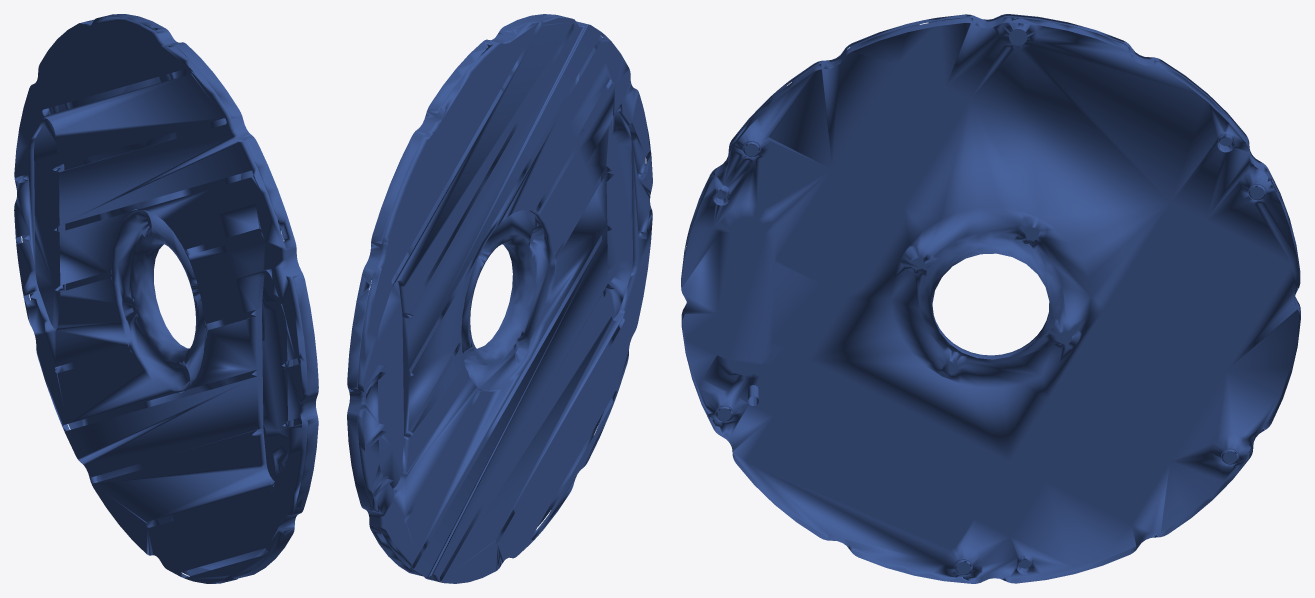
Rendered from anymal_hip_l_4.obj.
3 views of the same model, side by side, from view 1: azimuth 30°, elevation 25°; view 2: azimuth 150°, elevation 25°; view 3: azimuth 270°, elevation 25° (orthographic). The views are drawn at different scales.
Parts seen in each view (by area): view 1: anymal_hip_l_4; view 2: anymal_hip_l_4; view 3: anymal_hip_l_4.
Boxes of the visible parts, <box> form: anymal_hip_l_4: <box>14,14,318,583</box>; anymal_hip_l_4: <box>347,14,652,583</box>; anymal_hip_l_4: <box>681,14,1300,583</box>.
Bounding box in the file's own units: 0.00651 × 0.0898 × 0.0898.
